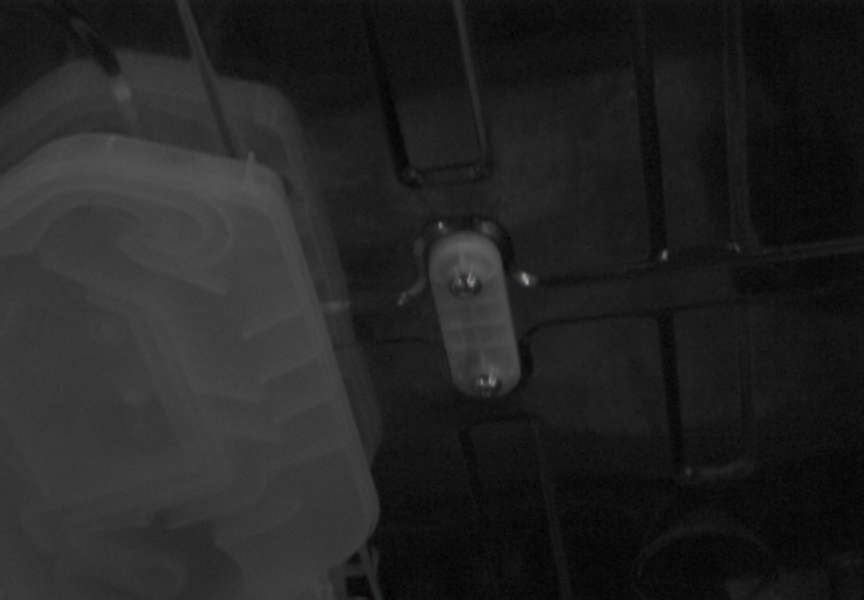screw: (449, 271, 482, 298), (473, 373, 502, 398)
